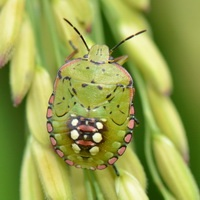insect: (47, 18, 145, 169)
